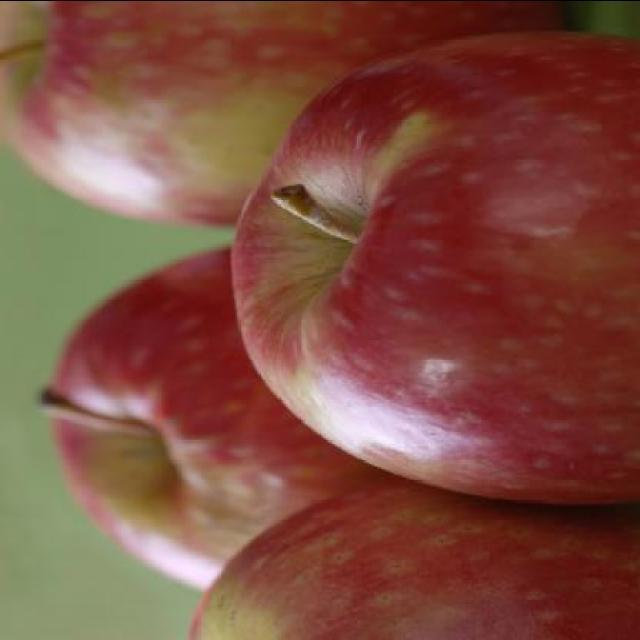Apple pie: (228, 30, 640, 522), (30, 247, 408, 596), (0, 1, 568, 228), (182, 478, 640, 640)
